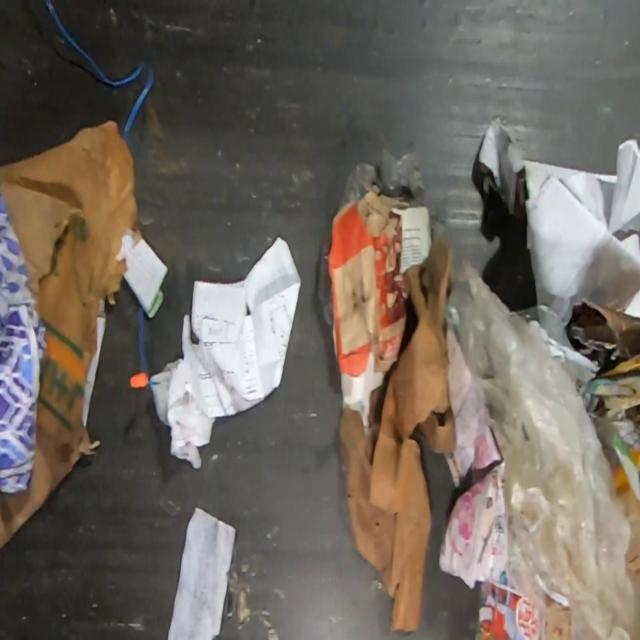cardboard: (0, 119, 143, 553), (339, 236, 458, 635), (326, 185, 415, 378), (564, 284, 640, 425)
soft_plastic: (447, 258, 633, 639), (316, 147, 447, 324)
